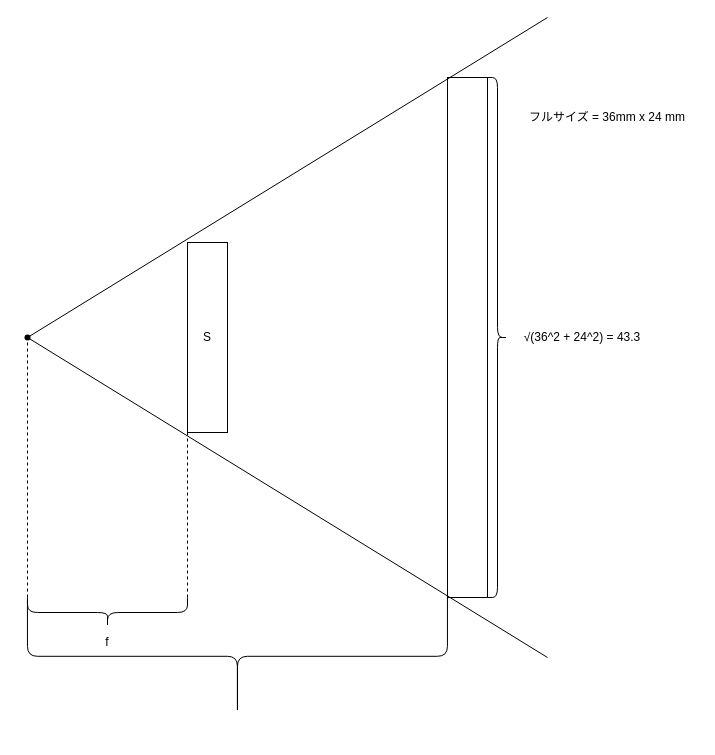
This 715x755 diagram has some shape labels left out. Each missing label, with the centre of its shape:
"f35" goes at pixel 236 656.
"S'" goes at pixel 467 337.
